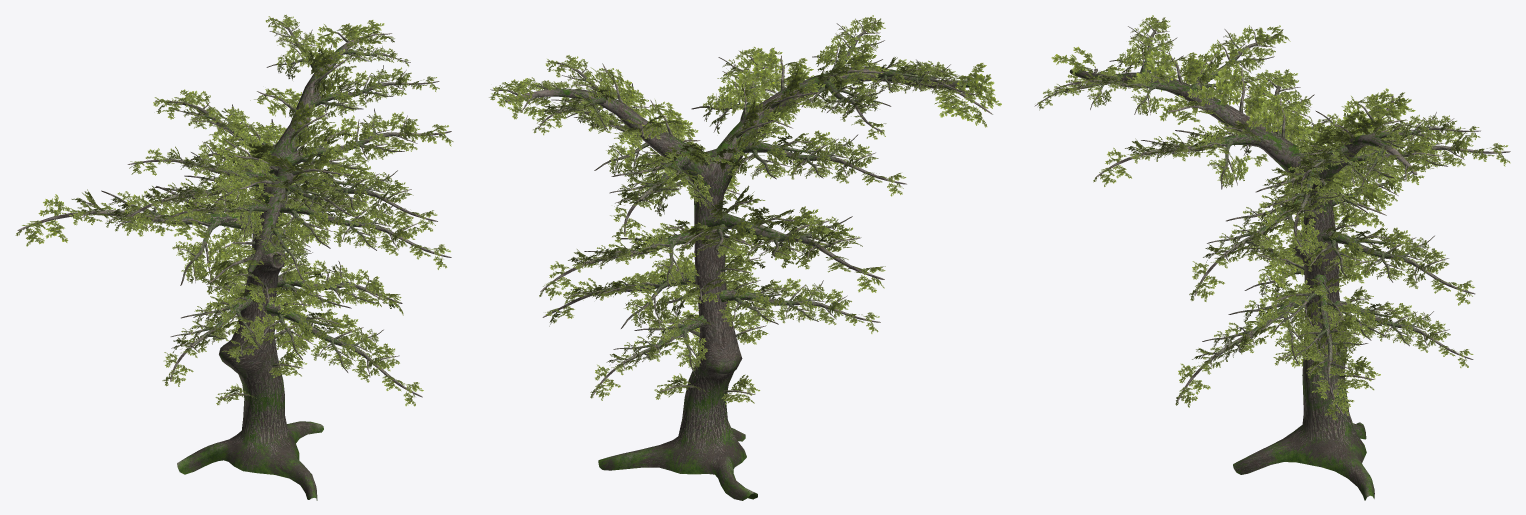
File: oak_tree.glb
3 views of the same model, side by side, from view 1: azimuth 30°, elevation 25°; view 2: azimuth 150°, elevation 25°; view 3: azimuth 270°, elevation 25° (orthographic).
Visible parts, largest first — view 1: tree001; view 2: tree001; view 3: tree001.
Part boxes in pixels (left/top/right/bottom): tree001: left=15, top=14, right=453, bottom=500; tree001: left=489, top=15, right=1001, bottom=500; tree001: left=1034, top=15, right=1510, bottom=500.
Bounding box in the file's own units: 10.31 × 10 × 10.88.
2 materials, 2 textured.
